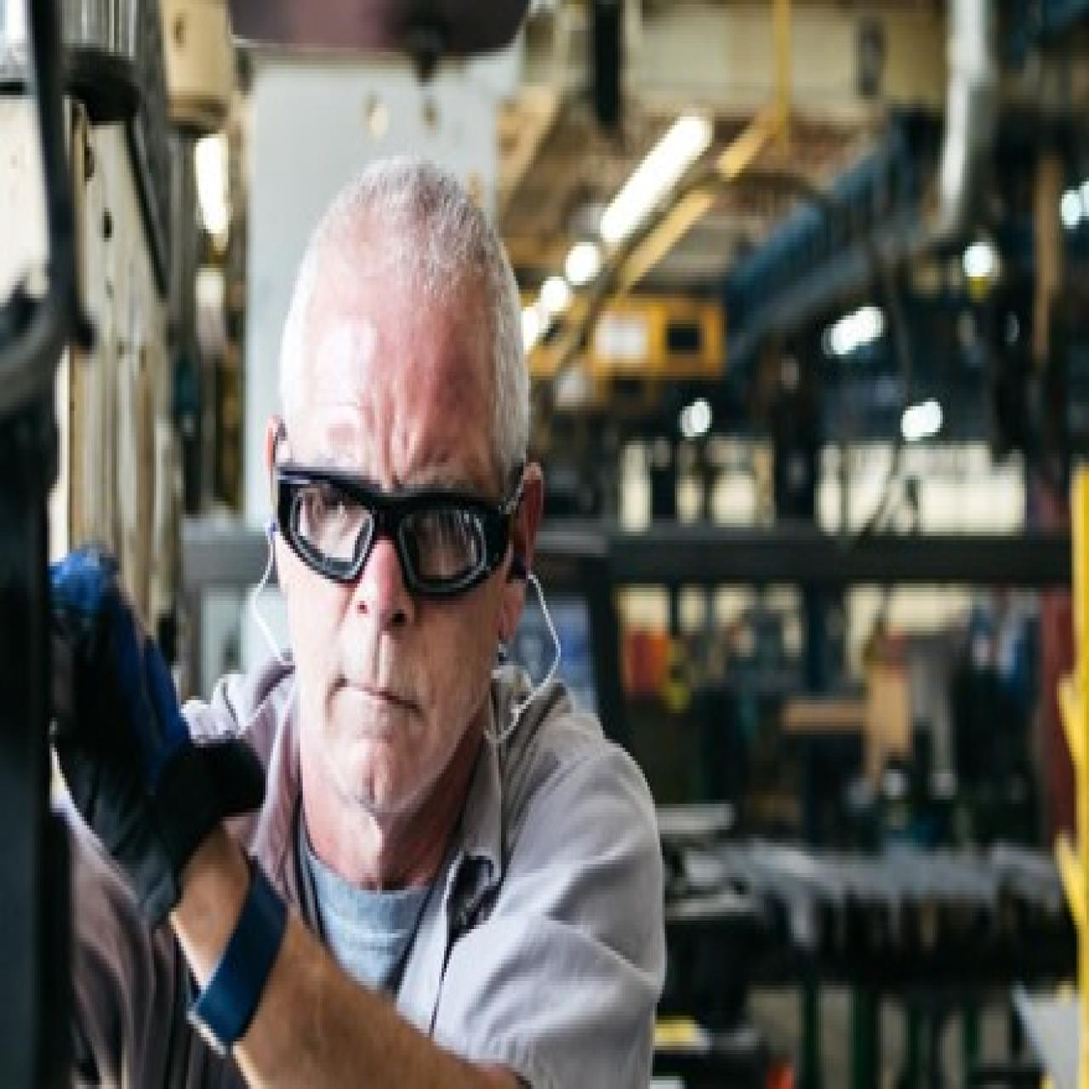NO_Safety_Vest: (142, 681, 624, 1089)
Person: (59, 146, 685, 1089)
